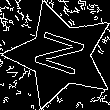N_E: (29, 28, 92, 83)
